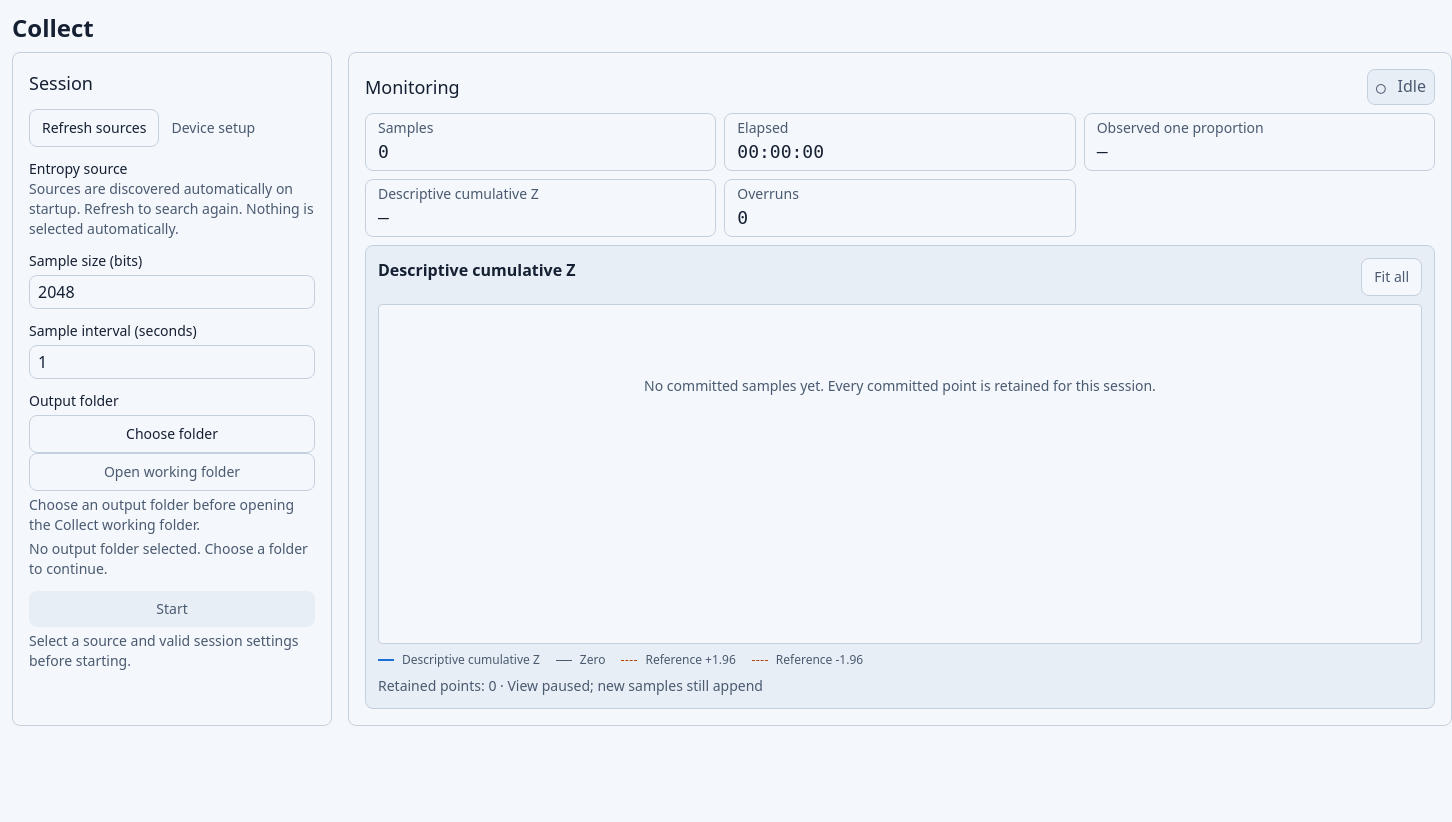
Test: SourceDiscovery › refresh in the browser lists mock candidates without selecting one
Step 1. Click the button "Refresh sources" → click(94, 128), box [29,109,160,147]
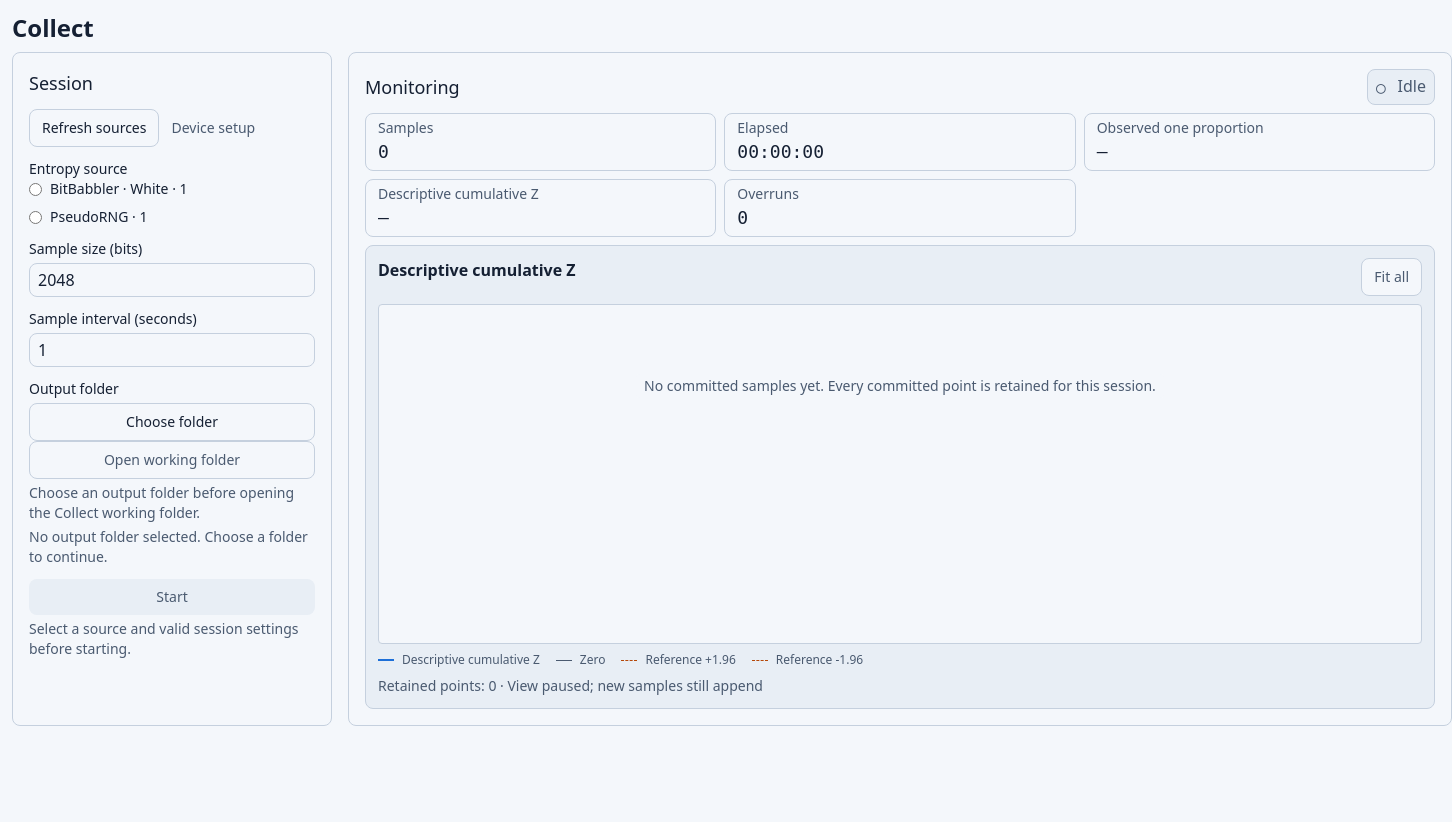
Result: the number of radio buttons is 2 at [29,182,42,196]; [29,210,42,224]
Result: the radio button labelled "BitBabbler · White · 1" is not checked at [29,182,42,196]
Result: the radio button labelled "PseudoRNG · 1" is not checked at [29,210,42,224]
